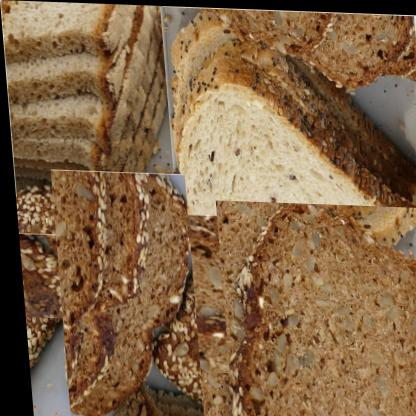bread: (159, 4, 415, 249), (106, 187, 326, 400), (212, 198, 415, 415), (46, 169, 199, 415), (0, 0, 176, 203), (13, 207, 134, 348)
